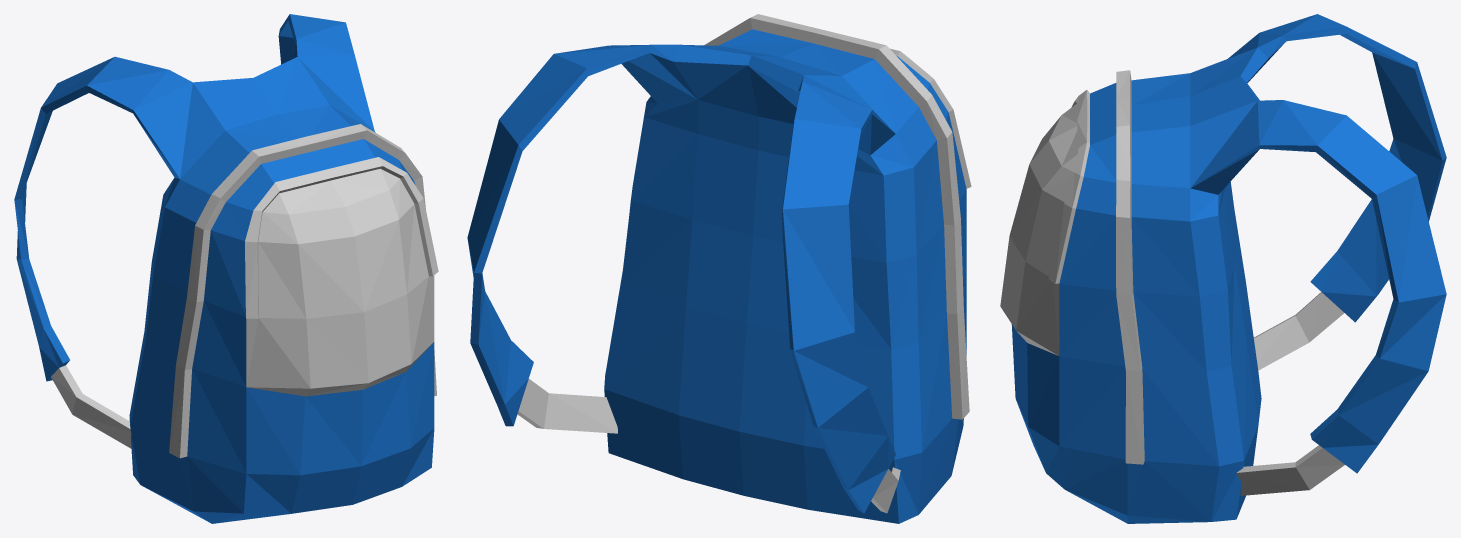
The model's file is SM_backpack.fbx.
3 views of the same model, side by side, from view 1: azimuth 30°, elevation 25°; view 2: azimuth 150°, elevation 25°; view 3: azimuth 270°, elevation 25° (orthographic). The views are drawn at different scales.
Parts seen in each view (by area): view 1: Symmetry_13; view 2: Symmetry_13; view 3: Symmetry_13.
Boxes of the visible parts, x1=… form: Symmetry_13: x1=14, y1=14, x2=438, y2=523; Symmetry_13: x1=467, y1=14, x2=971, y2=523; Symmetry_13: x1=1000, y1=14, x2=1446, y2=523.
Size of the model in its own units: 390 by 445 by 438.
